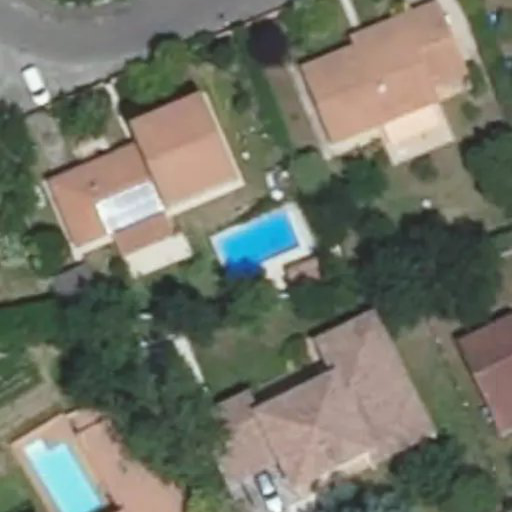pool: (216, 237, 299, 252)
